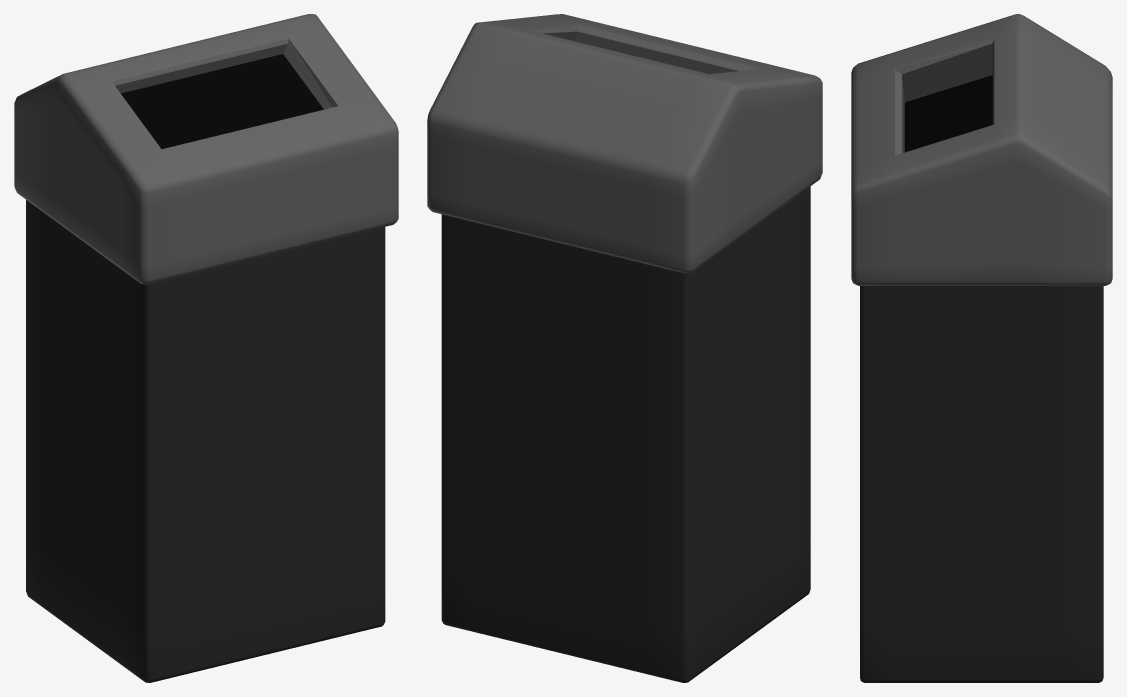
Rendered from bin1.FBX.
The picture shows the model from 3 angles, left to right: view 1: azimuth 30°, elevation 25°; view 2: azimuth 150°, elevation 25°; view 3: azimuth 270°, elevation 25°; orthographic projection. The views are drawn at different scales.
Parts seen in each view (by area): view 1: bin1; view 2: bin1; view 3: bin1.
Boxes of the visible parts, x1=… form: bin1: x1=14, y1=14, x2=398, y2=682; bin1: x1=427, y1=14, x2=822, y2=682; bin1: x1=851, y1=14, x2=1112, y2=682.
Bounding box in the file's own units: 12.42 × 10.9 × 25.42.
